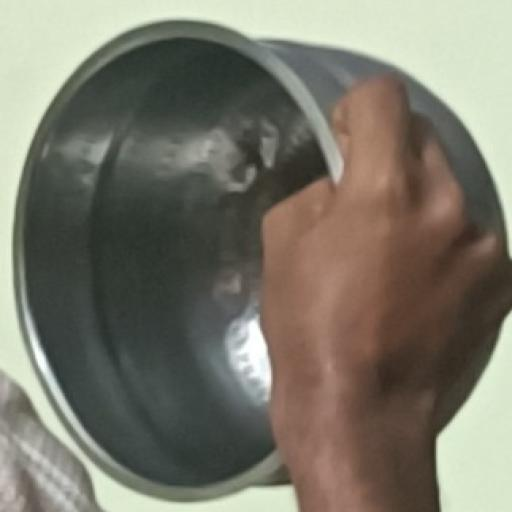vessel: (16, 21, 396, 499), (401, 74, 502, 231)
